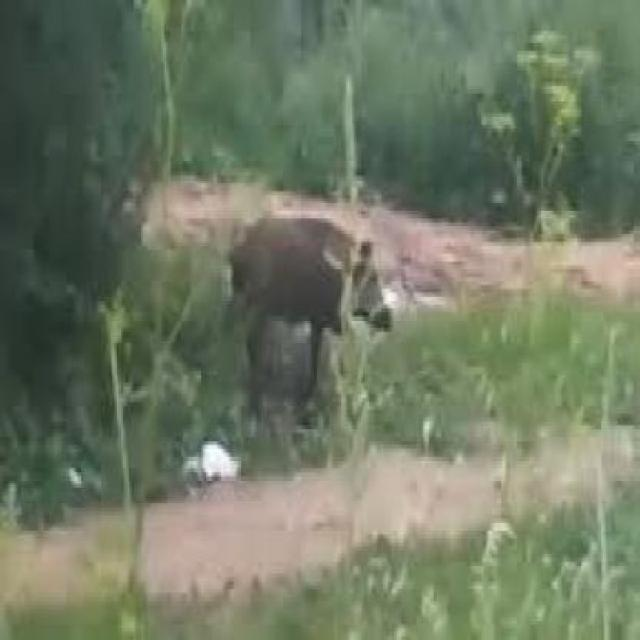Wild Boar: (220, 210, 398, 442)
